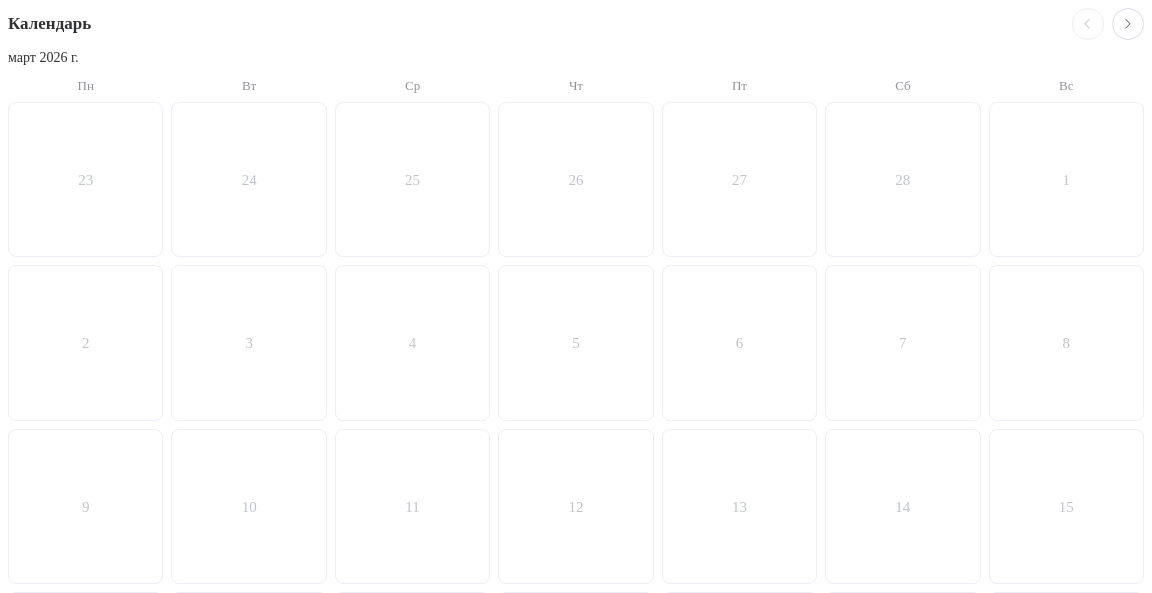
MonthCalendar › moves to the next and previous month
Click the 2nd button with class "nav-button" at (1128, 24), box [1112,8,1144,40]
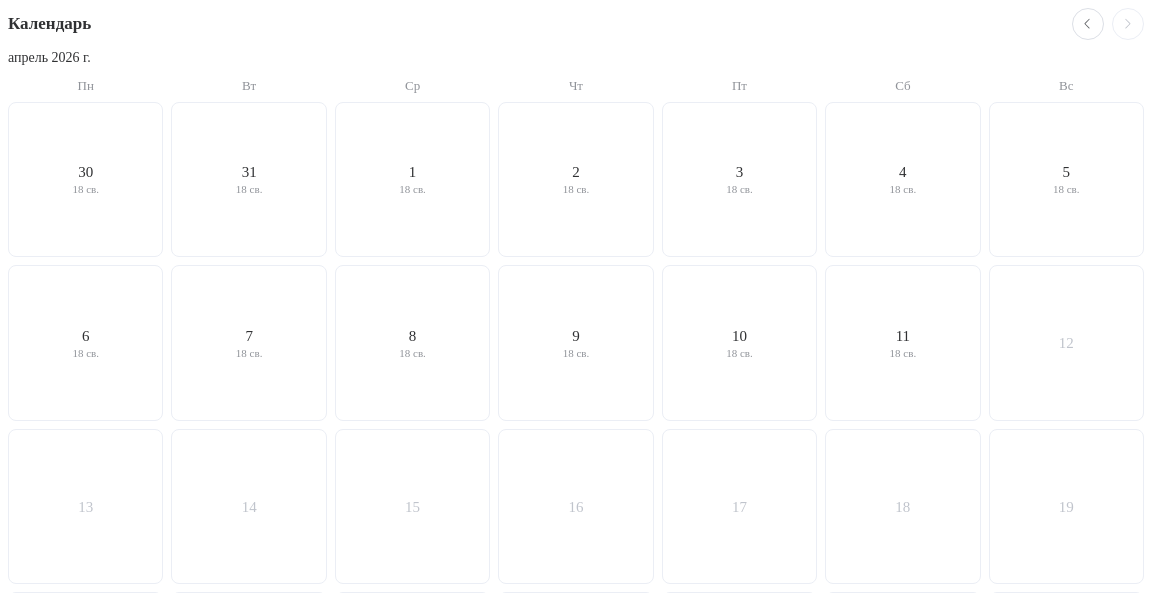
Now the text with class "calendar-month" reads "апрель 2026 г.", box [8,50,91,65]
Click the 1st button with class "nav-button" at (1088, 24), box [1072,8,1104,40]
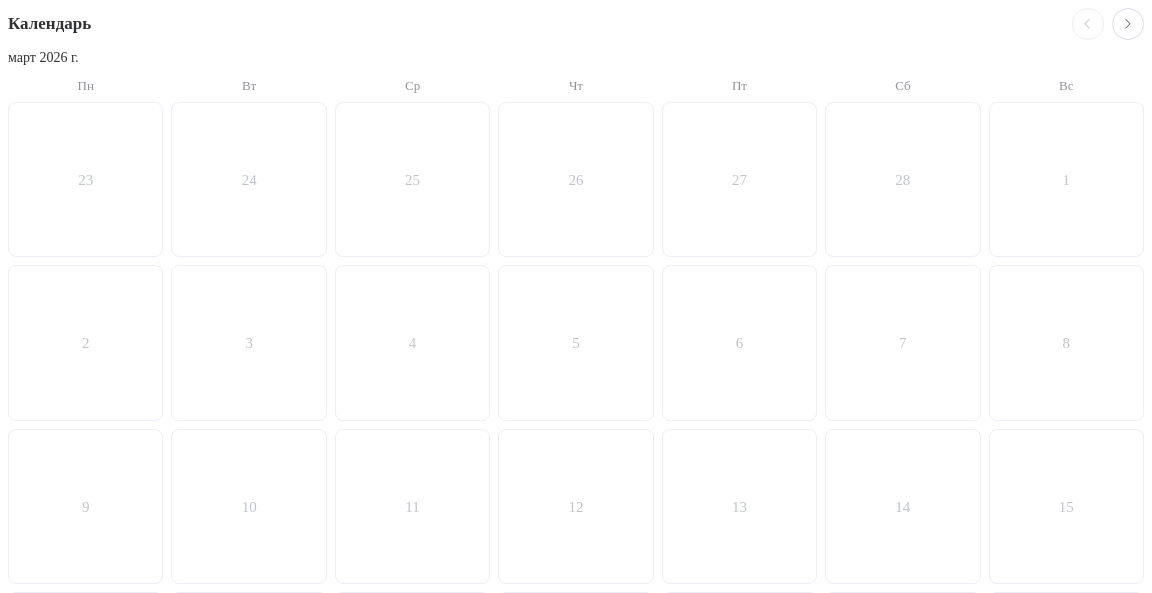
Now the text with class "calendar-month" reads "март 2026 г.", box [8,50,79,65]
